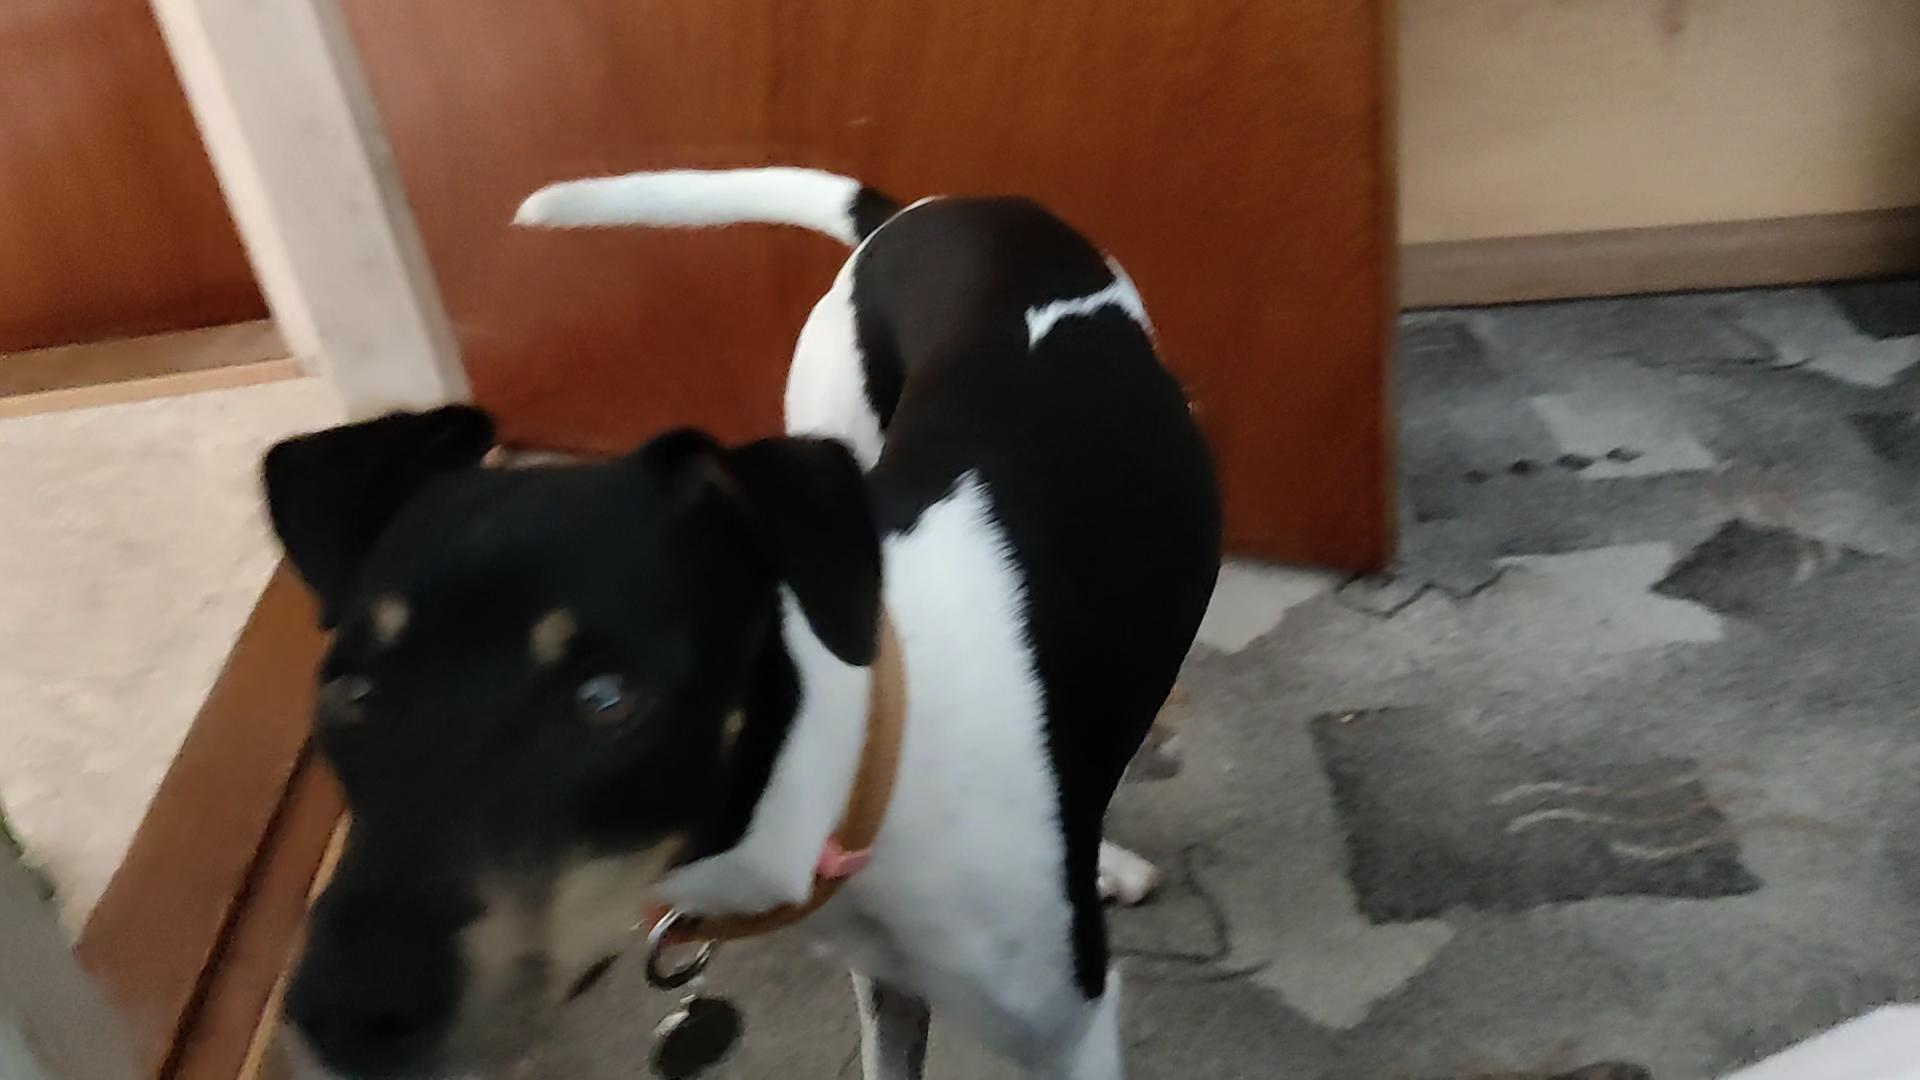Dog: (187, 128, 1309, 1079)
